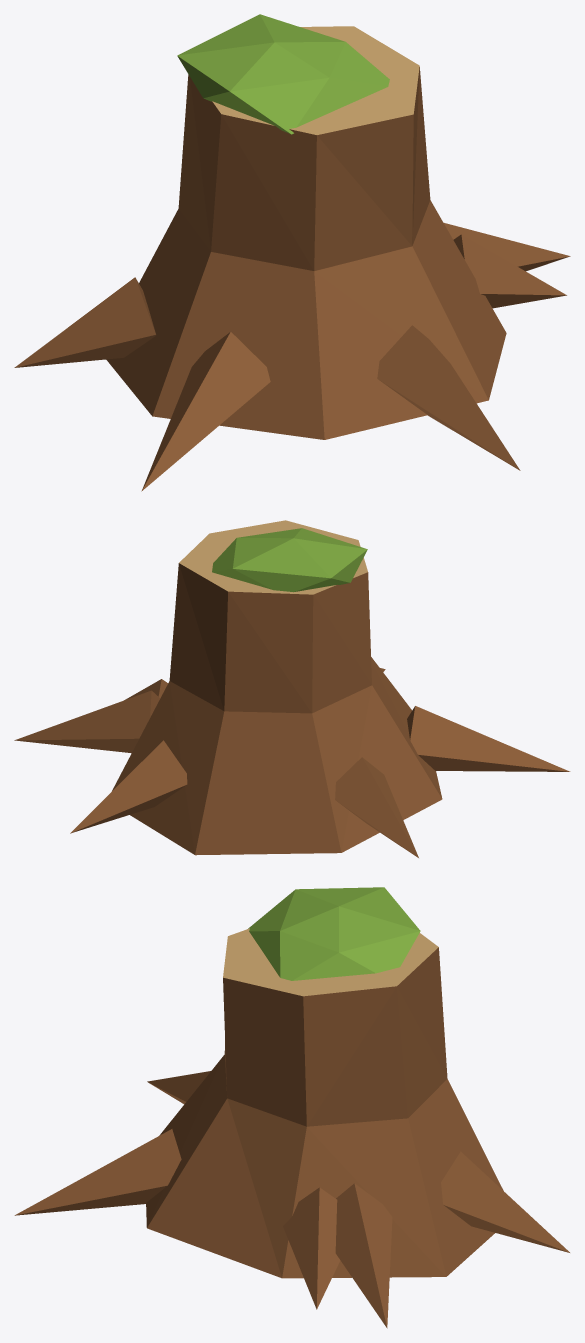
File: HS_LP_Stump_Moss_01.fbx
3 views of the same model, one above another, from view 1: azimuth 30°, elevation 25°; view 2: azimuth 150°, elevation 25°; view 3: azimuth 270°, elevation 25° (orthographic). The views are drawn at different scales.
Parts seen in each view (by area): view 1: HS_LP_Stump_Moss_01; view 2: HS_LP_Stump_Moss_01; view 3: HS_LP_Stump_Moss_01.
Part boxes in pixels (x1=…): HS_LP_Stump_Moss_01: x1=14, y1=14, x2=570, y2=491; HS_LP_Stump_Moss_01: x1=14, y1=520, x2=570, y2=857; HS_LP_Stump_Moss_01: x1=14, y1=887, x2=569, y2=1328.
Bounding box in the file's own units: 114 × 64.06 × 109.
